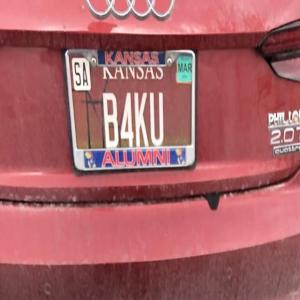Plate: (66, 51, 194, 171)
